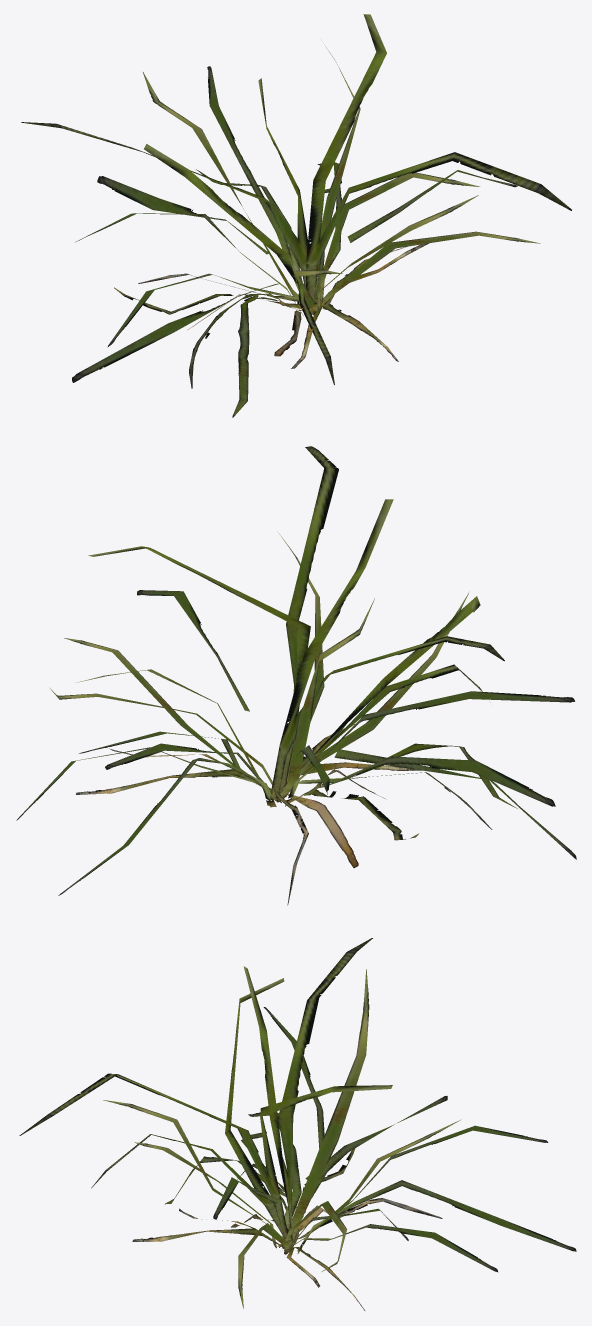
Rendered from capim_2.glb.
3 views of the same model, one above another, from view 1: azimuth 30°, elevation 25°; view 2: azimuth 150°, elevation 25°; view 3: azimuth 270°, elevation 25° (orthographic). The views are drawn at different scales.
Parts seen in each view (by area): view 1: capim; view 2: capim; view 3: capim.
Part boxes in pixels (x1,y1,x2,y2): capim: [21, 14, 571, 417]; capim: [16, 446, 576, 905]; capim: [19, 938, 576, 1310].
Size of the model in its own units: 0.3486 by 0.2098 by 0.3988.
Materials: 1 (1 with a texture image).
